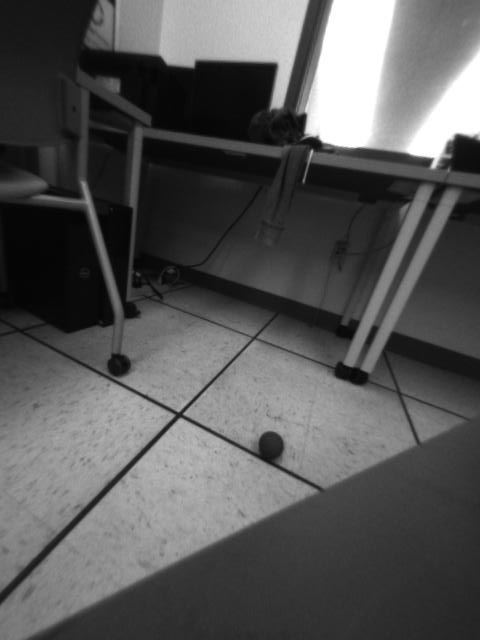dogtoy: (251, 424, 292, 467)
